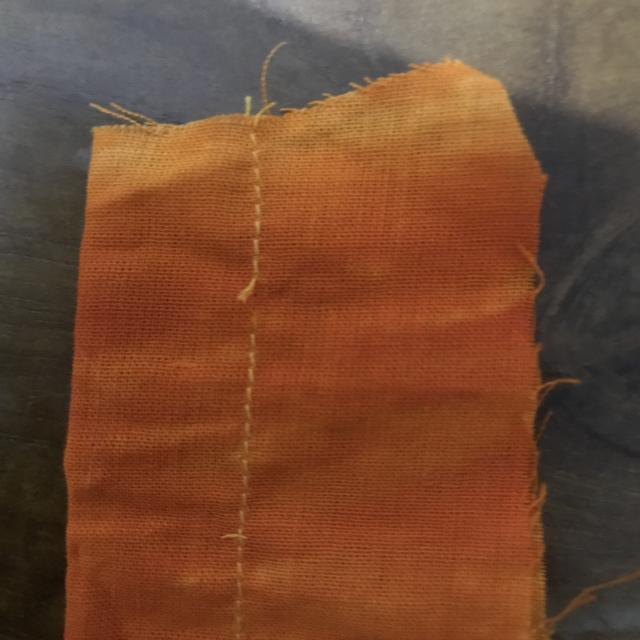good: (206, 258, 284, 262)
